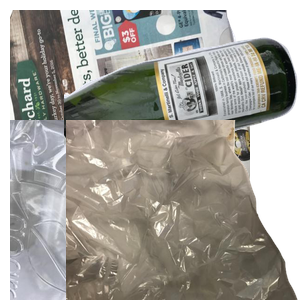glass: (64, 35, 300, 181)
paper: (10, 10, 250, 190)
plastic: (10, 120, 197, 300)
trash: (66, 120, 300, 300)
